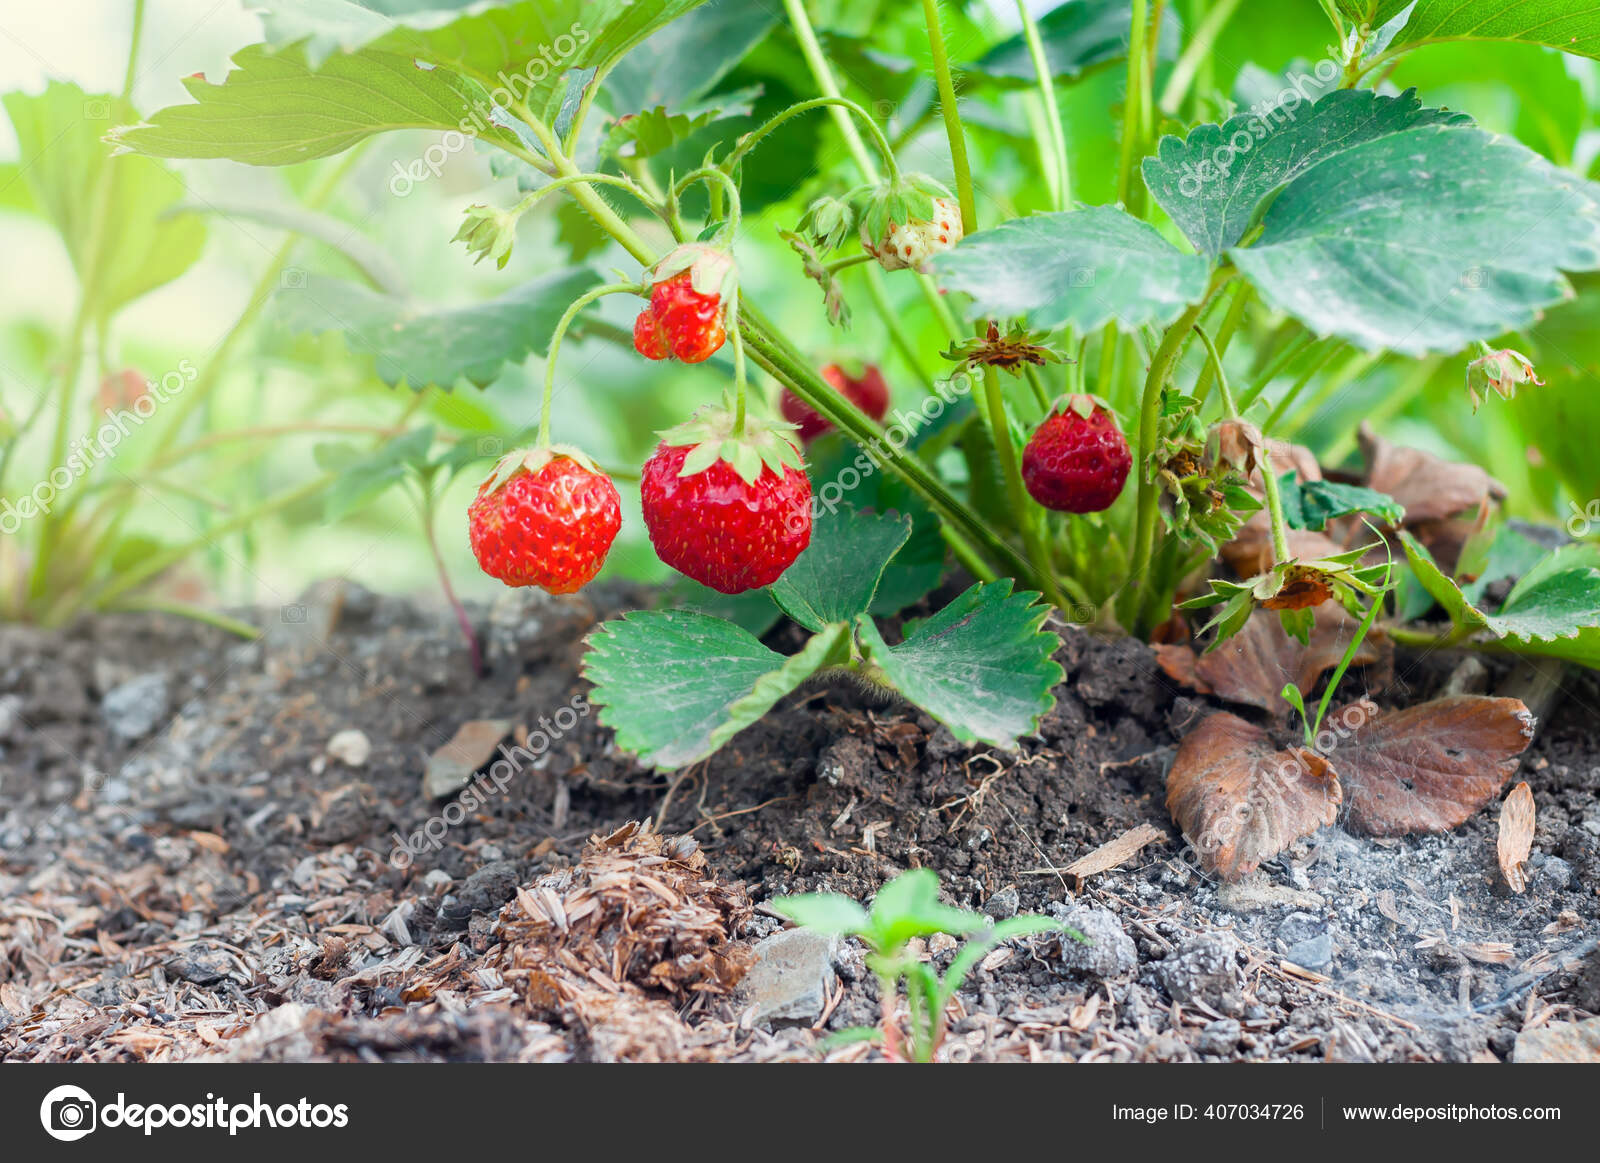ripe: (639, 408, 829, 601), (458, 427, 620, 606), (620, 241, 748, 383), (1011, 385, 1139, 524), (773, 344, 894, 431)
unripe: (847, 158, 976, 283)
